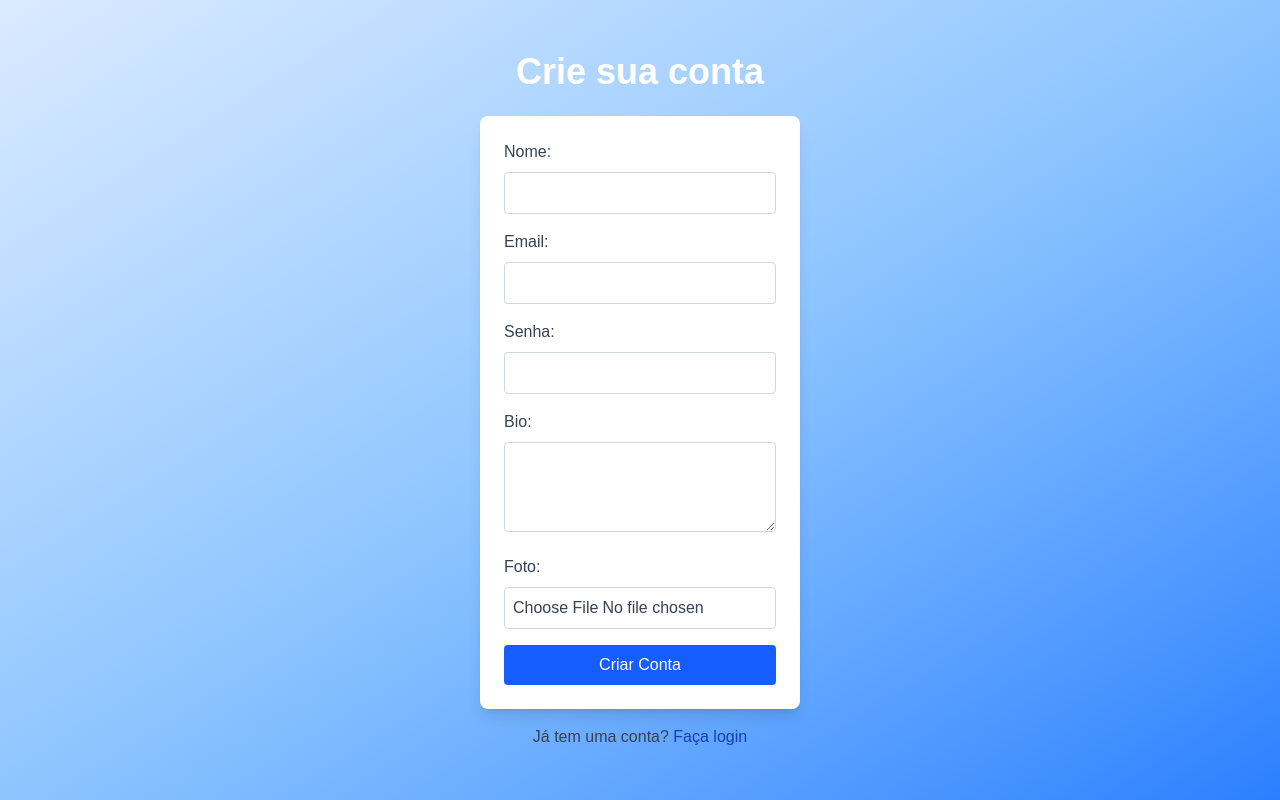
Test: SignupPage › shows an error message when the password is too short
Type "Lucas" into the field labelled "Nome:" at (640, 192), box [504, 172, 776, 214]
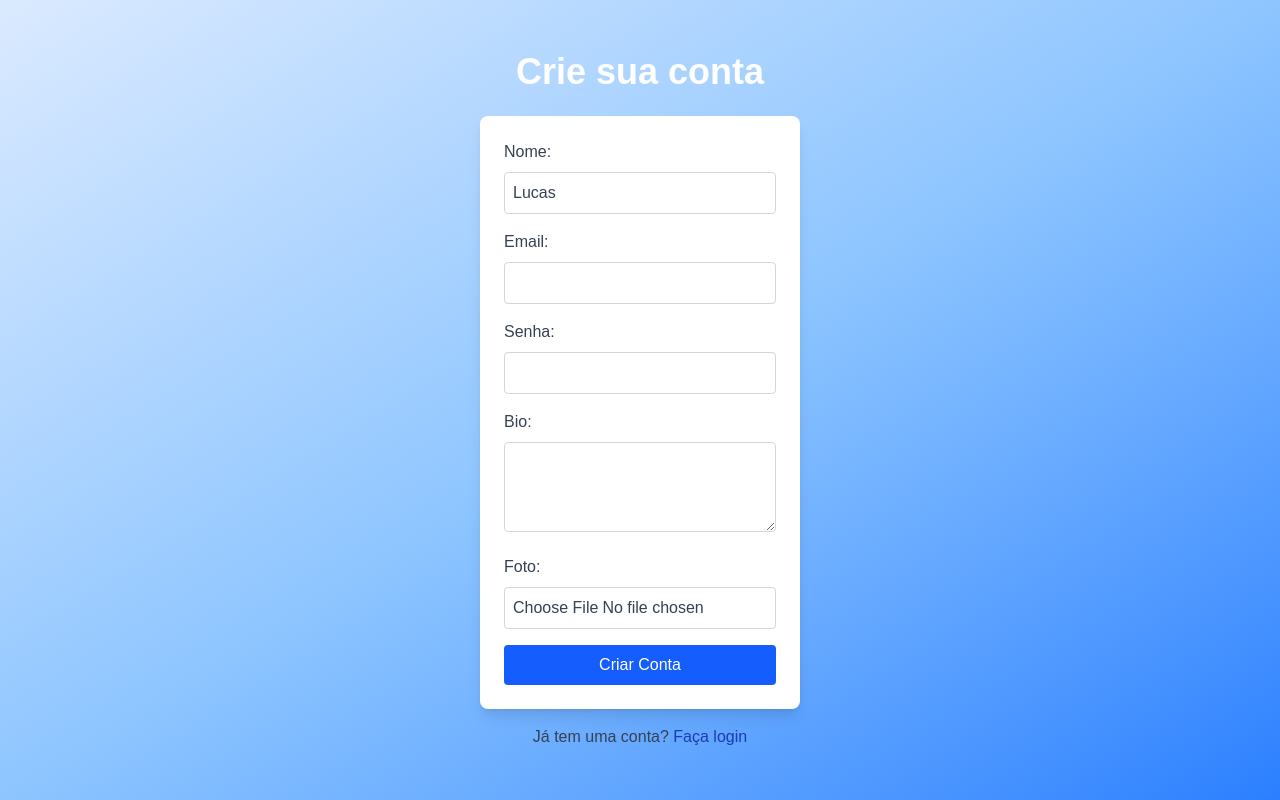
Type "test@example.com" into the field labelled "Email:" at (640, 282), box [504, 262, 776, 304]
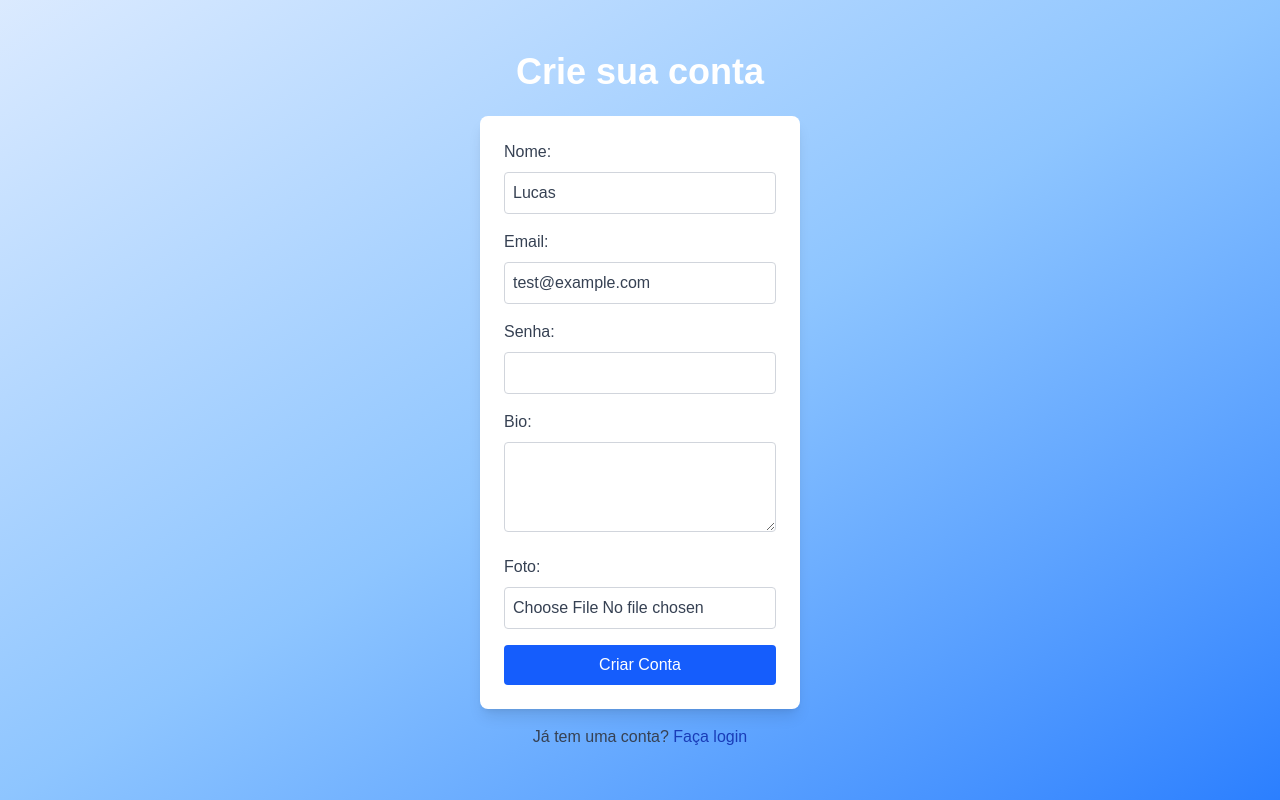
Type "123" into the password field labelled "Senha:" at (640, 372), box [504, 352, 776, 394]
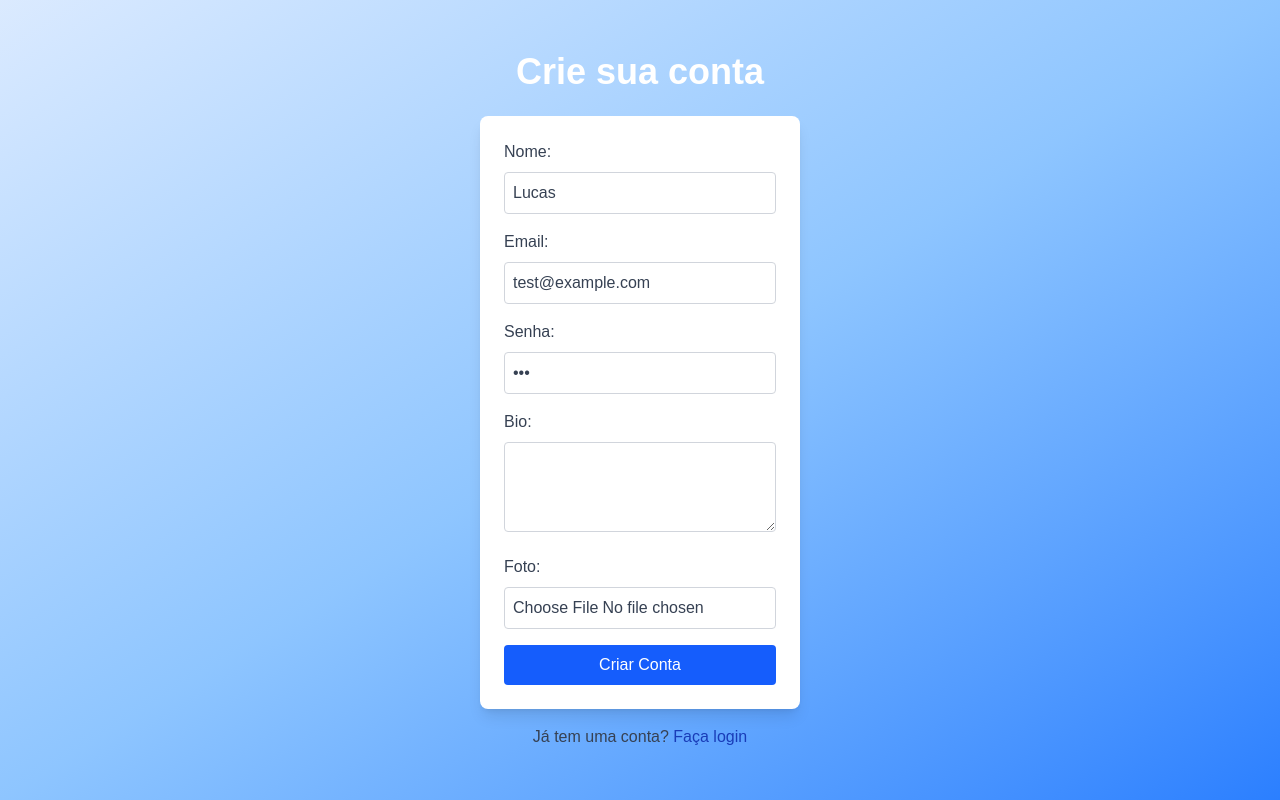
Click the button "Criar Conta" at (640, 664), box [504, 644, 776, 684]
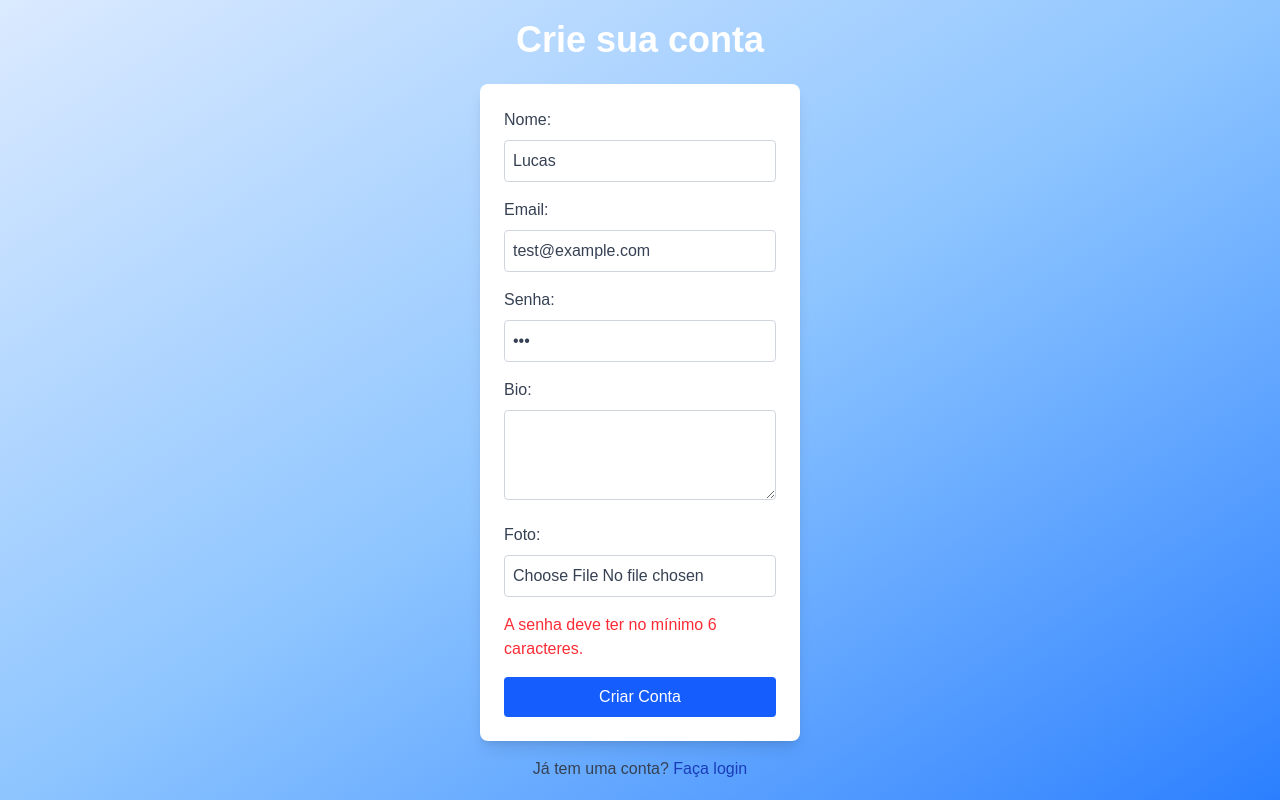
Result: the text "A senha deve ter no mínimo 6 caracteres." is shown at [504, 616, 717, 656]
